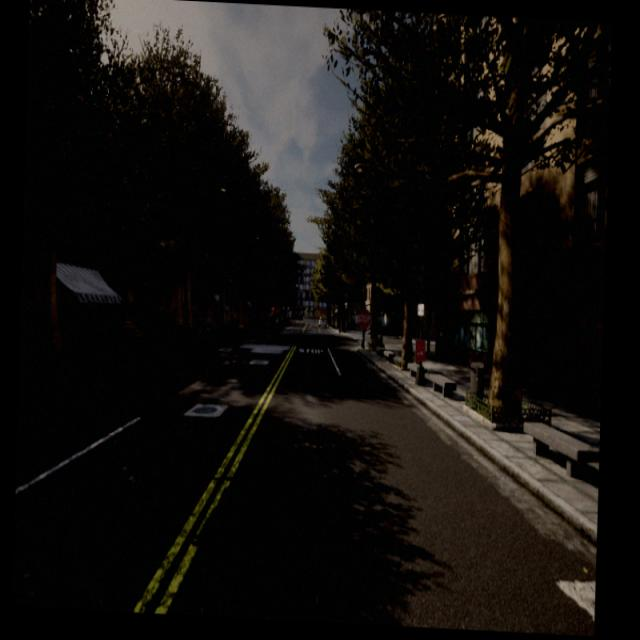stop sign: (352, 301, 375, 350), (354, 307, 373, 330)
